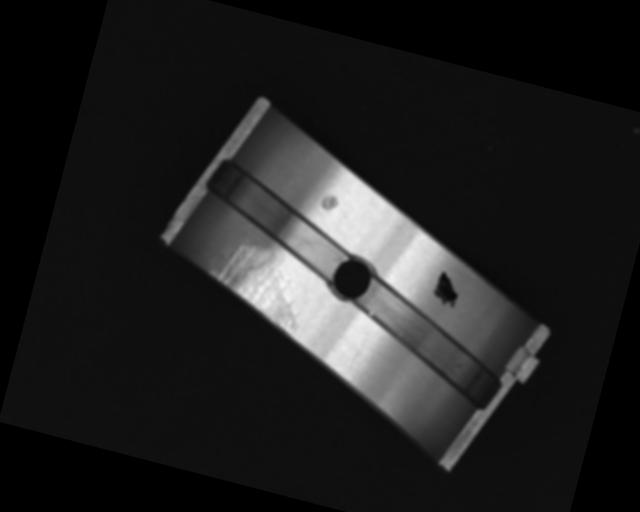blot: (428, 270, 464, 310)
bruise: (318, 192, 340, 215)
gap: (333, 273, 518, 409), (187, 155, 363, 284)
hole: (324, 249, 381, 310)
nick: (344, 333, 370, 378)
scratch: (196, 233, 316, 338)
